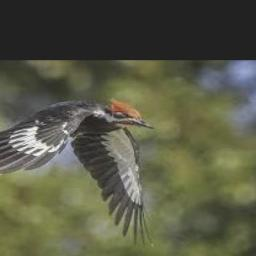Woodpecker: (0, 97, 154, 247)
